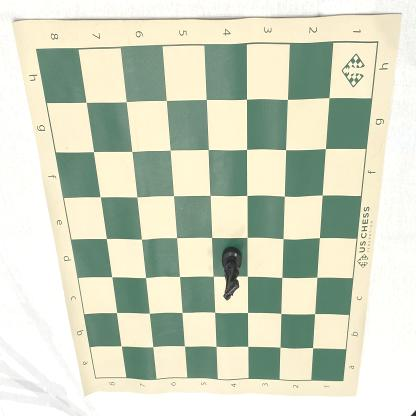black-knight: (221, 246, 243, 300)
